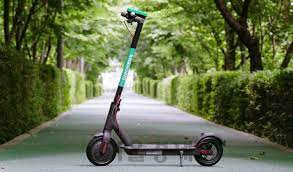kick_board: (84, 7, 224, 166)
kick_body: (122, 142, 196, 158)
kick_handler: (121, 9, 146, 26)
kick_neck: (102, 24, 141, 124)
kick_wheel: (193, 132, 225, 165), (86, 135, 119, 165)
